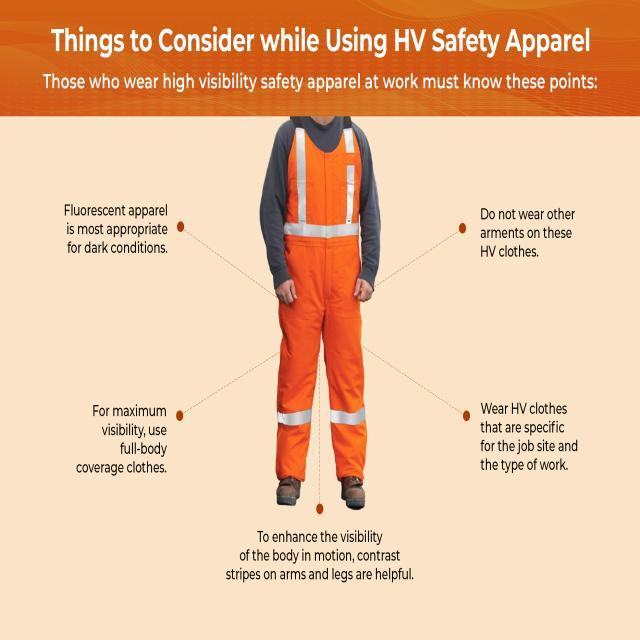reflective_jacket: (269, 119, 375, 494)
